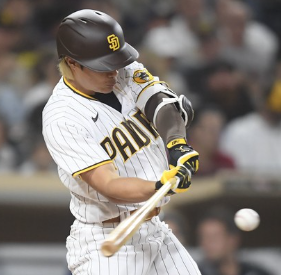ball: (233, 207, 261, 232)
